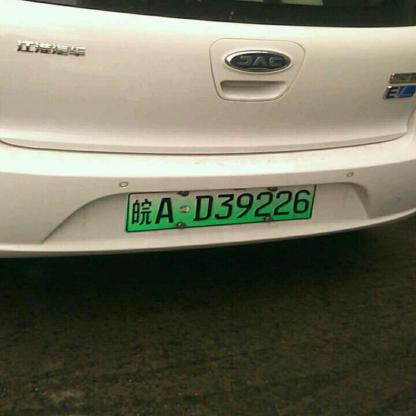lp: (127, 184, 314, 230)
